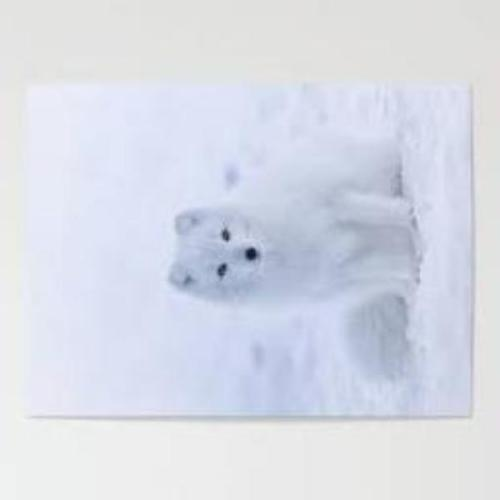arctic_fox-endangered: (166, 122, 424, 317)
